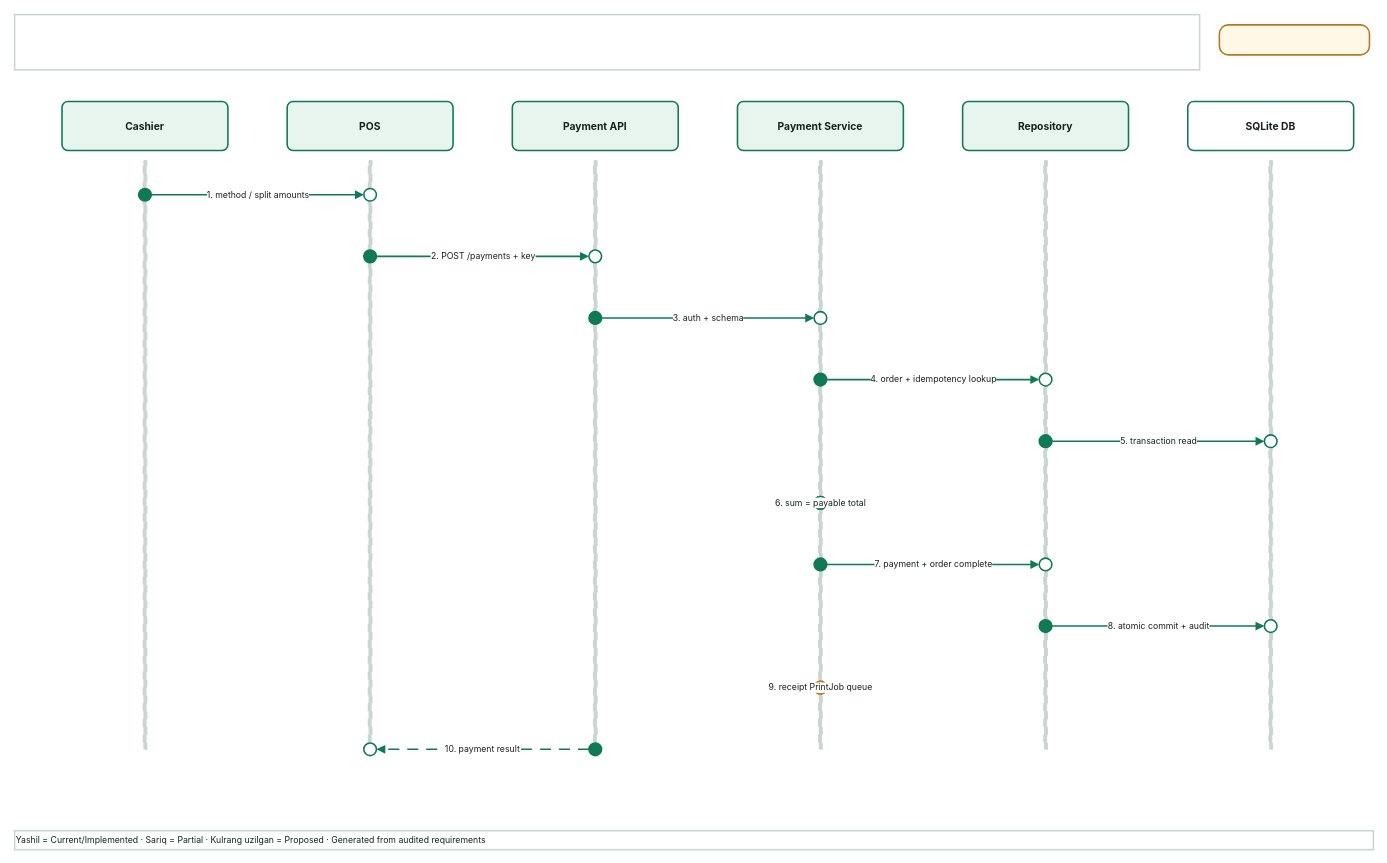
This 1387x863 diagram has some shape labels left out. Each missing label, with the centre of its shape:
"Current + Partial" belongs at [1294,39].
"D09 · Payment UML Sequence · osonCafe SDLC" belongs at [606,41].
